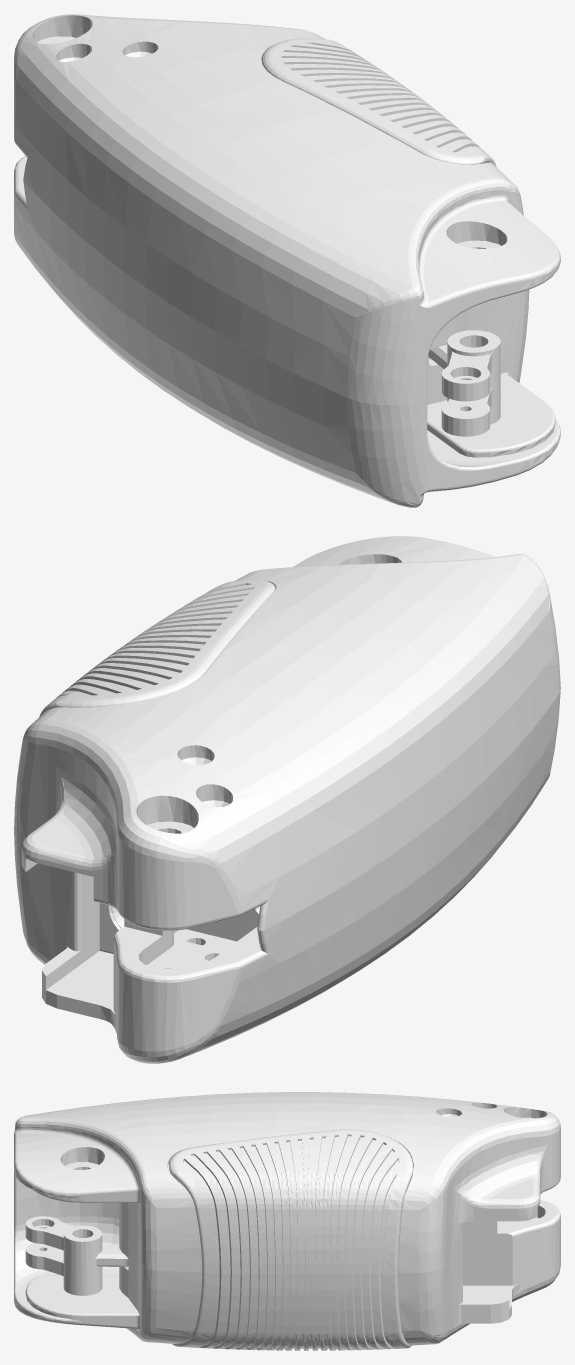
Rendered from rh_thumb_metacarpals_vis.obj.
3 renders of one model, top to bottom at view 1: azimuth 30°, elevation 25°; view 2: azimuth 150°, elevation 25°; view 3: azimuth 270°, elevation 25°, orthographic. The views are drawn at different scales.
Parts seen in each view (by area): view 1: rh_thumb_metacarpals; view 2: rh_thumb_metacarpals; view 3: rh_thumb_metacarpals.
Boxes of the visible parts, x1,y1,x2,y2 form: rh_thumb_metacarpals: (14, 14, 560, 507); rh_thumb_metacarpals: (14, 536, 560, 1063); rh_thumb_metacarpals: (14, 1092, 560, 1350).
Bounding box in the file's own units: 0.0364 × 0.0314 × 0.0774.
Materials: 1 (1 with a texture image).
